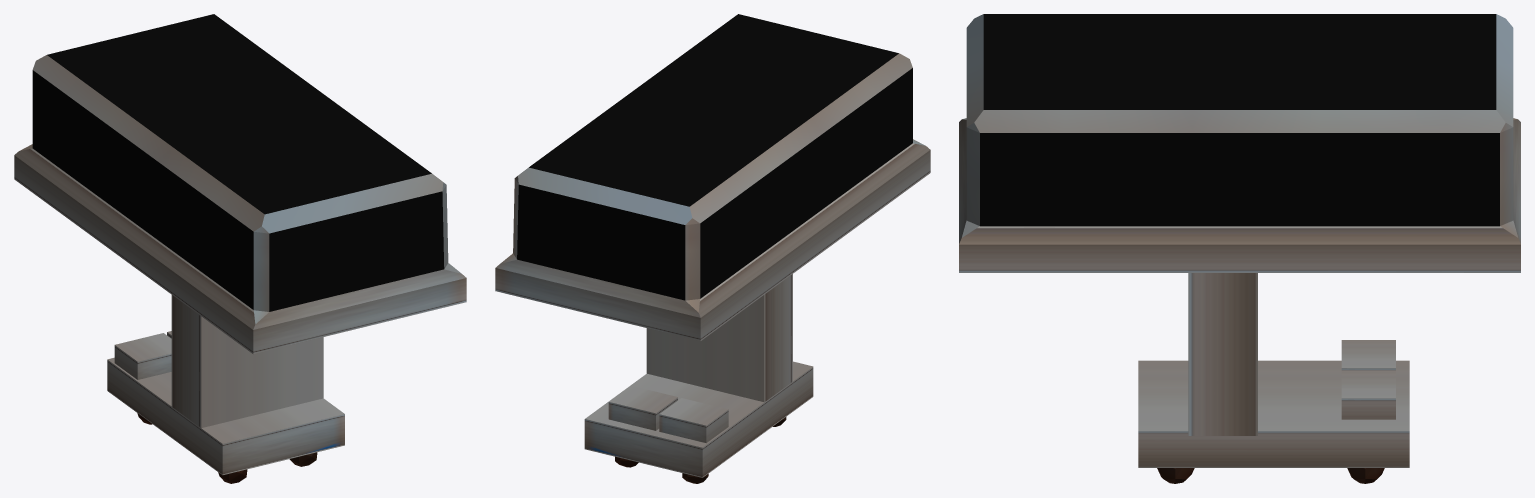
File: Camilla.fbx
3 views of the same model, side by side, from view 1: azimuth 30°, elevation 25°; view 2: azimuth 150°, elevation 25°; view 3: azimuth 270°, elevation 25° (orthographic). The views are drawn at different scales.
Visible parts, largest first — view 1: Camilla; view 2: Camilla; view 3: Camilla.
Part boxes in pixels (left/top/right/bottom): Camilla: left=14, top=14, right=466, bottom=483; Camilla: left=495, top=14, right=930, bottom=483; Camilla: left=959, top=14, right=1520, bottom=483.
Bounding box in the file's own units: 1.22 × 2.36 × 1.85.
Materials: 1 (1 with a texture image).
